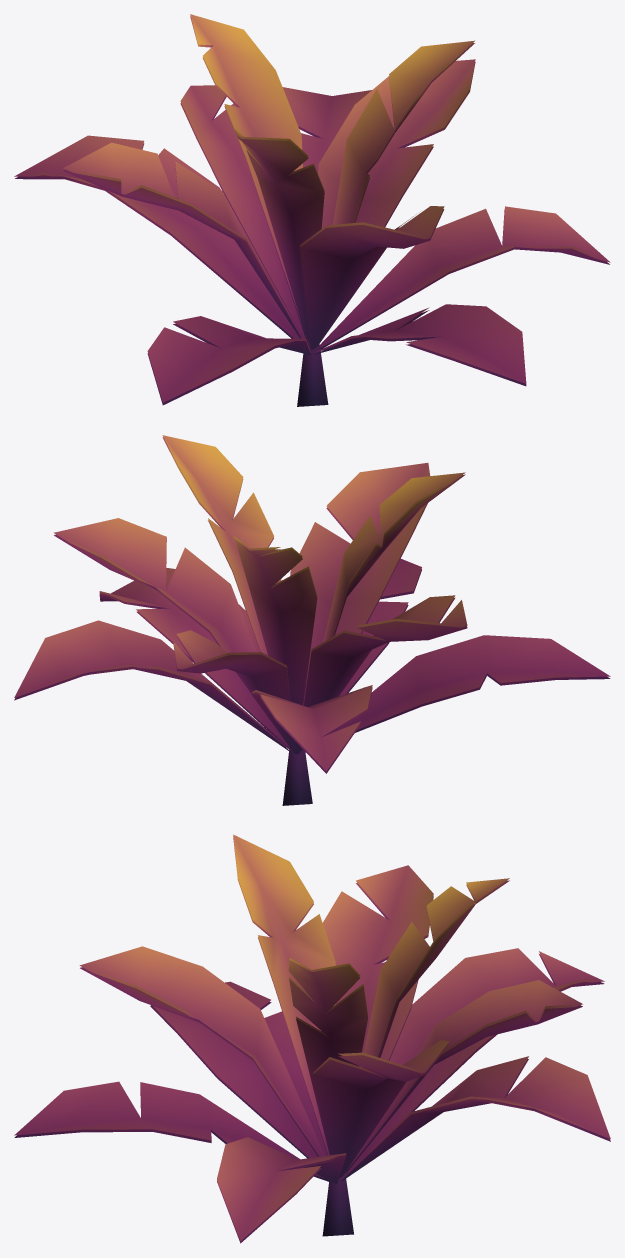
Rendered from Fern_2A.fbx.
3 views of the same model, one above another, from view 1: azimuth 30°, elevation 25°; view 2: azimuth 150°, elevation 25°; view 3: azimuth 270°, elevation 25° (orthographic). The views are drawn at different scales.
Visible parts, largest first — view 1: Fern_2A; view 2: Fern_2A; view 3: Fern_2A.
Boxes of the visible parts, <box> form: Fern_2A: <box>14,14,610,406</box>; Fern_2A: <box>14,435,610,805</box>; Fern_2A: <box>14,834,610,1243</box>.
Size of the model in its own units: 125 by 81.46 by 131.
